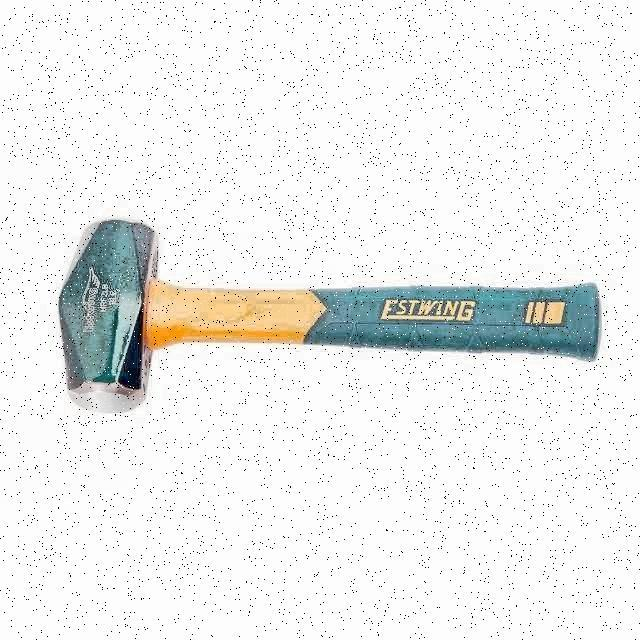hammer: (57, 217, 599, 415)
